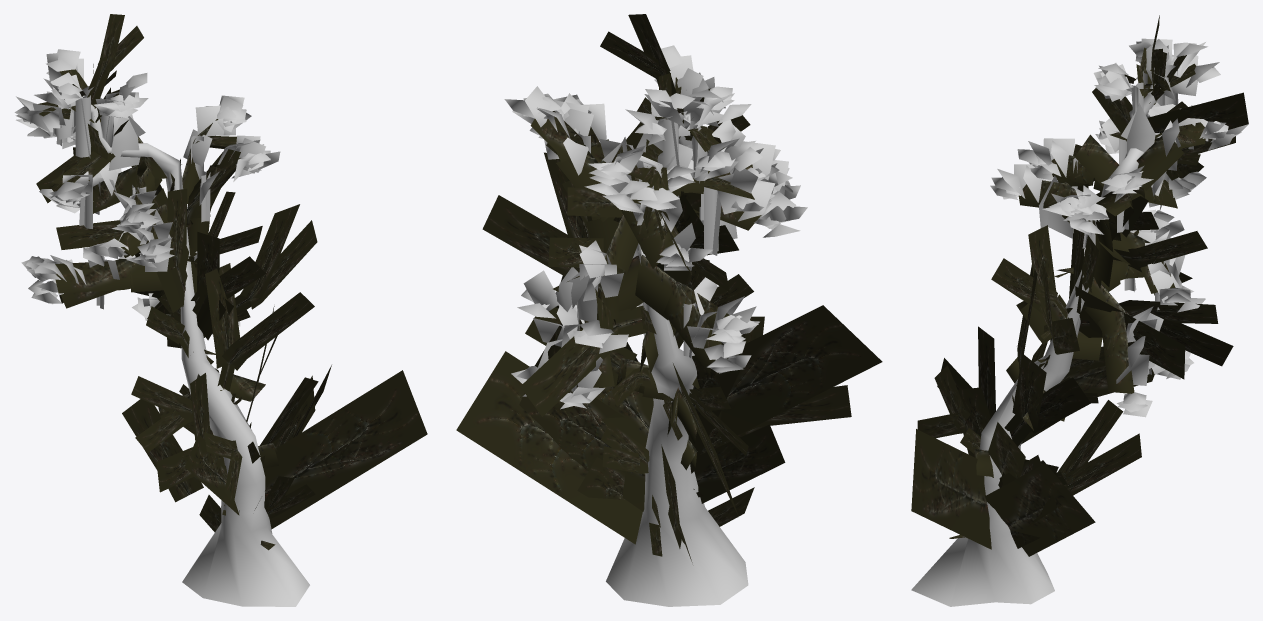
Rendered from tree9.FBX.
3 views of the same model, side by side, from view 1: azimuth 30°, elevation 25°; view 2: azimuth 150°, elevation 25°; view 3: azimuth 270°, elevation 25° (orthographic). The views are drawn at different scales.
Parts seen in each view (by area): view 1: Tree9; view 2: Tree9; view 3: Tree9.
Part boxes in pixels (x1,y1,x2,y2): Tree9: (14, 14, 427, 606); Tree9: (456, 14, 882, 606); Tree9: (911, 15, 1248, 606).
Size of the model in its own units: 253 by 431 by 243.
